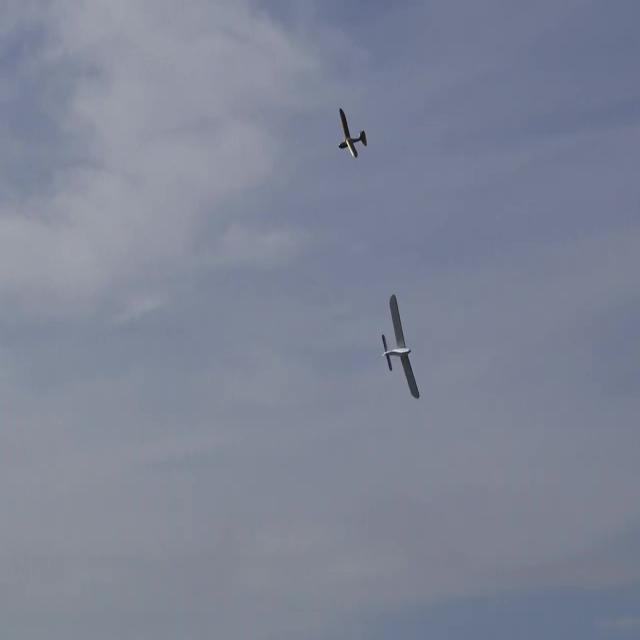iha: (379, 324, 421, 368), (337, 107, 368, 161)
